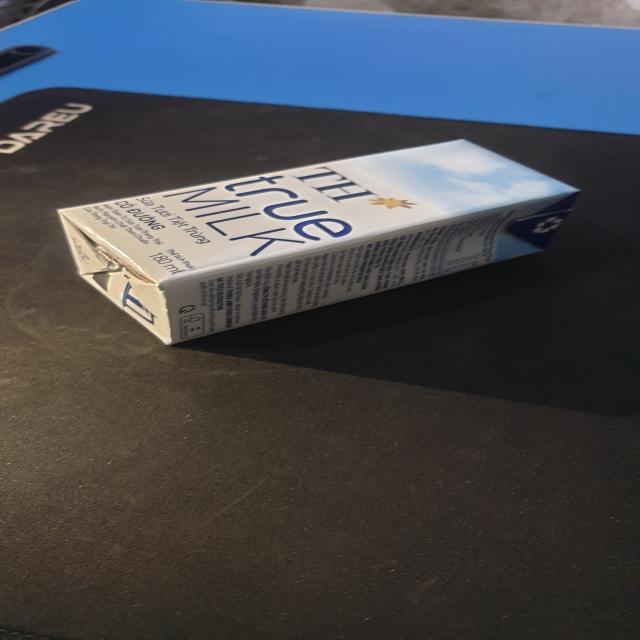TH: (57, 138, 582, 345)
